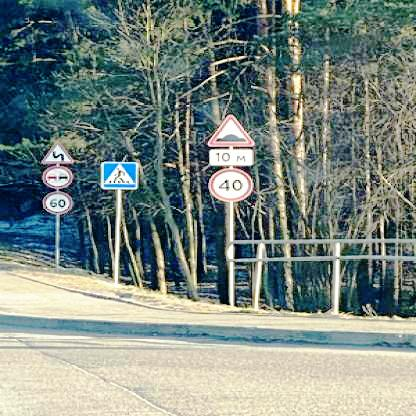Speed Limit -60-: (43, 190, 72, 217)
